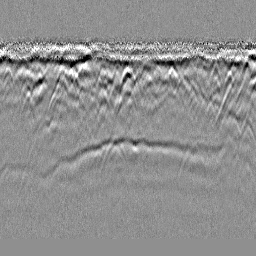cavity: (111, 65, 145, 116)
